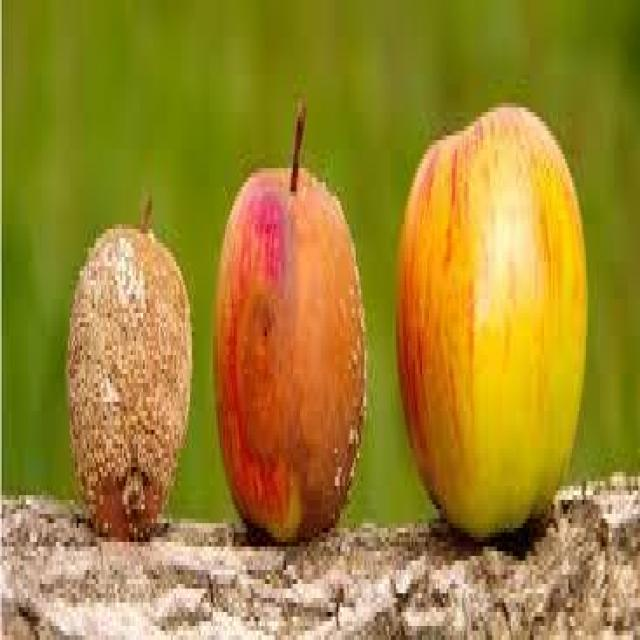maca: (394, 98, 588, 537), (211, 98, 366, 542), (64, 192, 192, 537)
